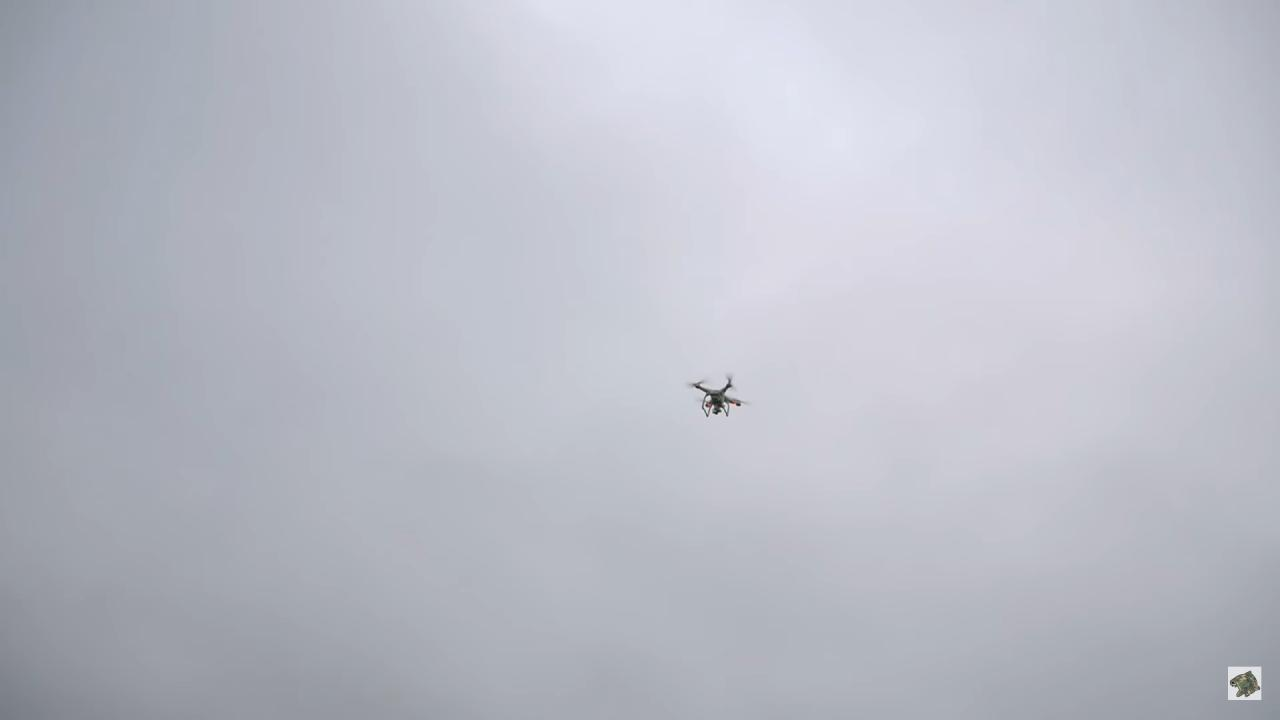Drone: (682, 364, 757, 431)
